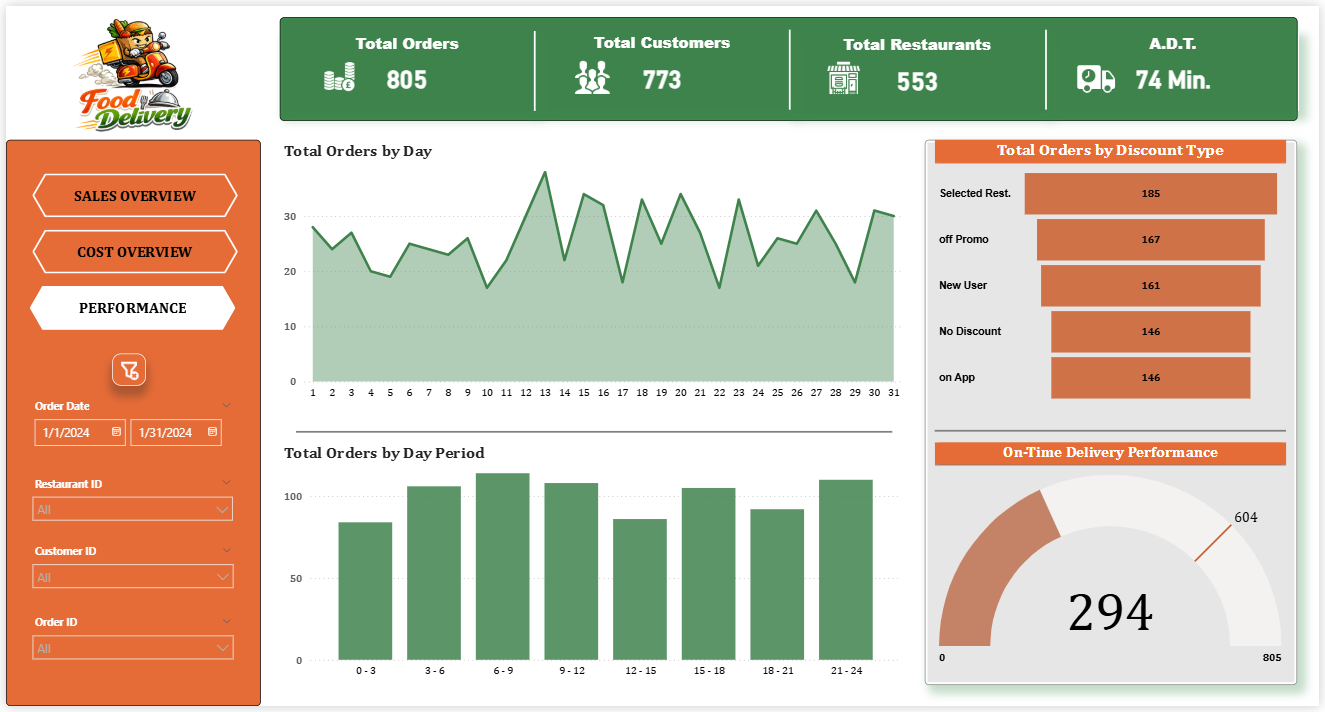

The page's visual inventory and layout, read from the dashboard file:
{"tool":"powerbi","page":{"name":"PERFORMANCE ","canvas":[1500,800],"ordinal":2},"visuals":[{"type":"image","box":[0,0,291.4,172.9],"z":0},{"type":"shape","box":[312.9,12.3,1163,118.4],"z":0,"group":"g5"},{"type":"cardVisual","fields":{"Data":["Food Delivery.Total Orders"]},"box":[313,27.8,291.4,92.9],"z":0,"group":"g1"},{"type":"shape","box":[1050,152.9,425.7,622.9],"z":0,"group":"g3"},{"type":"group","id":"g1","title":"Group 1","box":[313,27.8,1163.6,93],"z":1000,"group":"g5"},{"type":"cardVisual","fields":{"Data":["Food Delivery.A.D.T."]},"box":[1189.4,28.4,287.1,92],"z":1000,"group":"g1"},{"type":"shape","box":[0,152.9,291.4,647.1],"z":1000},{"type":"shape","box":[1183.1,26.1,11.4,91.6],"z":2000,"group":"g5"},{"type":"cardVisual","fields":{"Data":["Count(Food Delivery.Customer ID)"]},"box":[604.8,28.4,291.5,91.6],"z":2000,"group":"g1"},{"type":"slicer","fields":{"Values":["Food Delivery.Order Date"]},"box":[20.5,444.4,249.5,90],"z":2000},{"type":"shape","box":[890.2,26.1,11.4,91.6],"z":3000,"group":"g5"},{"type":"cardVisual","fields":{"Data":["Count(Food Delivery.Restaurant ID)"]},"box":[894.9,28.7,294.5,92],"z":3000,"group":"g1"},{"type":"slicer","fields":{"Values":["Food Delivery.Customer ID"]},"box":[20,610,250,77.1],"z":3000},{"type":"shape","box":[598.6,27.4,11.4,91.6],"z":4000,"group":"g5"},{"type":"image","box":[361.9,61.8,39.8,34.5],"z":5000,"group":"g1"},{"type":"actionButton","box":[121.3,396.7,38.2,36.8],"z":5000},{"type":"lineClusteredColumnComboChart","title":"Total Orders by Day Period","fields":{"Category":["Food Delivery.Day Period"],"Y":["CountNonNull(Food Delivery.Order ID)"]},"box":[312.9,498.9,715.7,276.8],"z":5000,"group":"g3"},{"type":"slicer","fields":{"Values":["Food Delivery.Order ID"]},"box":[20,691.4,250,77.1],"z":6000},{"type":"funnel","title":"Total Orders by Discount Type","fields":{"Category":["Food Delivery.Discount Type"],"Y":["CountNonNull(Food Delivery.Order ID)"]},"box":[1061.5,152.9,401.4,304.8],"z":7000,"group":"g3"},{"type":"slicer","fields":{"Values":["Food Delivery.Restaurant ID"]},"box":[20.5,533.1,249.5,76.3],"z":7000},{"type":"pageNavigator","box":[30,191.1,235.7,50],"z":8000},{"type":"pageNavigator","box":[30,255.3,235.7,50],"z":9000},{"type":"gauge","title":"On-Time Delivery Performance","fields":{"Y":["Food Delivery.On-Time Delivery"],"MaxValue":["CountNonNull(Food Delivery.Order ID)"],"TargetValue":["Food Delivery.Delivery Status Target"]},"box":[1061.5,498.9,401.4,265.3],"z":9000,"group":"g3"},{"type":"pageNavigator","box":[27.1,320,235.7,50],"z":10000},{"type":"shape","box":[1061.5,470.9,401.4,28],"z":10000,"group":"g3"},{"type":"group","id":"g2","title":"Group 4","box":[312.9,12.3,1163.7,118.4],"z":11000},{"type":"shape","box":[331.5,474.2,681.4,24.7],"z":11000,"group":"g3"},{"type":"group","id":"g3","title":"Group 5","box":[312.9,152.9,1162.9,622.9],"z":12000},{"type":"group","id":"g4","title":"Group 3","box":[312.9,12.3,1163.7,118.4],"z":18000,"group":"g2"},{"type":"lineChart","title":"Total Orders by Day","fields":{"Category":["Date.Day Num"],"Y":["CountNonNull(Food Delivery.Order ID)"]},"box":[312.9,154.5,715.7,303.2],"z":19000,"group":"g3"},{"type":"group","id":"g5","title":"Group 2","box":[312.9,12.3,1163.7,118.4],"z":22000,"group":"g4"},{"type":"image","box":[648.5,60.1,42.9,42.9],"z":22500,"group":"g4"},{"type":"image","box":[935.7,58.7,42.9,47.1],"z":23000,"group":"g4"},{"type":"image","box":[1224.2,58.7,42.9,47.1],"z":23000,"group":"g2"}]}

Visuals, with their boxes in screenshot pixels (x1, y1, x2, y2), scaled from the page's 1500x800 canvas onto the 1325x712 screenshot:
image: <bbox>0, 0, 257, 154</bbox>
shape: <bbox>276, 11, 1304, 116</bbox>
cardVisual - Food Delivery.Total Orders: <bbox>276, 25, 534, 107</bbox>
shape: <bbox>928, 136, 1304, 690</bbox>
"Group 1" group: <bbox>276, 25, 1304, 108</bbox>
cardVisual - Food Delivery.A.D.T.: <bbox>1051, 25, 1304, 107</bbox>
shape: <bbox>0, 136, 257, 711</bbox>
shape: <bbox>1045, 23, 1055, 105</bbox>
cardVisual - Count(Food Delivery.Customer ID): <bbox>534, 25, 792, 107</bbox>
slicer - Food Delivery.Order Date: <bbox>18, 396, 238, 476</bbox>
shape: <bbox>786, 23, 796, 105</bbox>
cardVisual - Count(Food Delivery.Restaurant ID): <bbox>790, 26, 1051, 107</bbox>
slicer - Food Delivery.Customer ID: <bbox>18, 543, 238, 612</bbox>
shape: <bbox>529, 24, 539, 106</bbox>
image: <bbox>320, 55, 355, 86</bbox>
actionButton: <bbox>107, 353, 141, 386</bbox>
"Total Orders by Day Period" lineClusteredColumnComboChart: <bbox>276, 444, 909, 690</bbox>
slicer - Food Delivery.Order ID: <bbox>18, 615, 238, 684</bbox>
"Total Orders by Discount Type" funnel: <bbox>938, 136, 1292, 407</bbox>
slicer - Food Delivery.Restaurant ID: <bbox>18, 474, 238, 542</bbox>
pageNavigator: <bbox>26, 170, 235, 215</bbox>
pageNavigator: <bbox>26, 227, 235, 272</bbox>
"On-Time Delivery Performance" gauge: <bbox>938, 444, 1292, 680</bbox>
pageNavigator: <bbox>24, 285, 232, 329</bbox>
shape: <bbox>938, 419, 1292, 444</bbox>
"Group 4" group: <bbox>276, 11, 1304, 116</bbox>
shape: <bbox>293, 422, 895, 444</bbox>
"Group 5" group: <bbox>276, 136, 1304, 690</bbox>
"Group 3" group: <bbox>276, 11, 1304, 116</bbox>
"Total Orders by Day" lineChart: <bbox>276, 138, 909, 407</bbox>
"Group 2" group: <bbox>276, 11, 1304, 116</bbox>
image: <bbox>573, 53, 611, 92</bbox>
image: <bbox>827, 52, 864, 94</bbox>
image: <bbox>1081, 52, 1119, 94</bbox>
